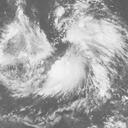cyclone: (14, 11, 116, 100)
